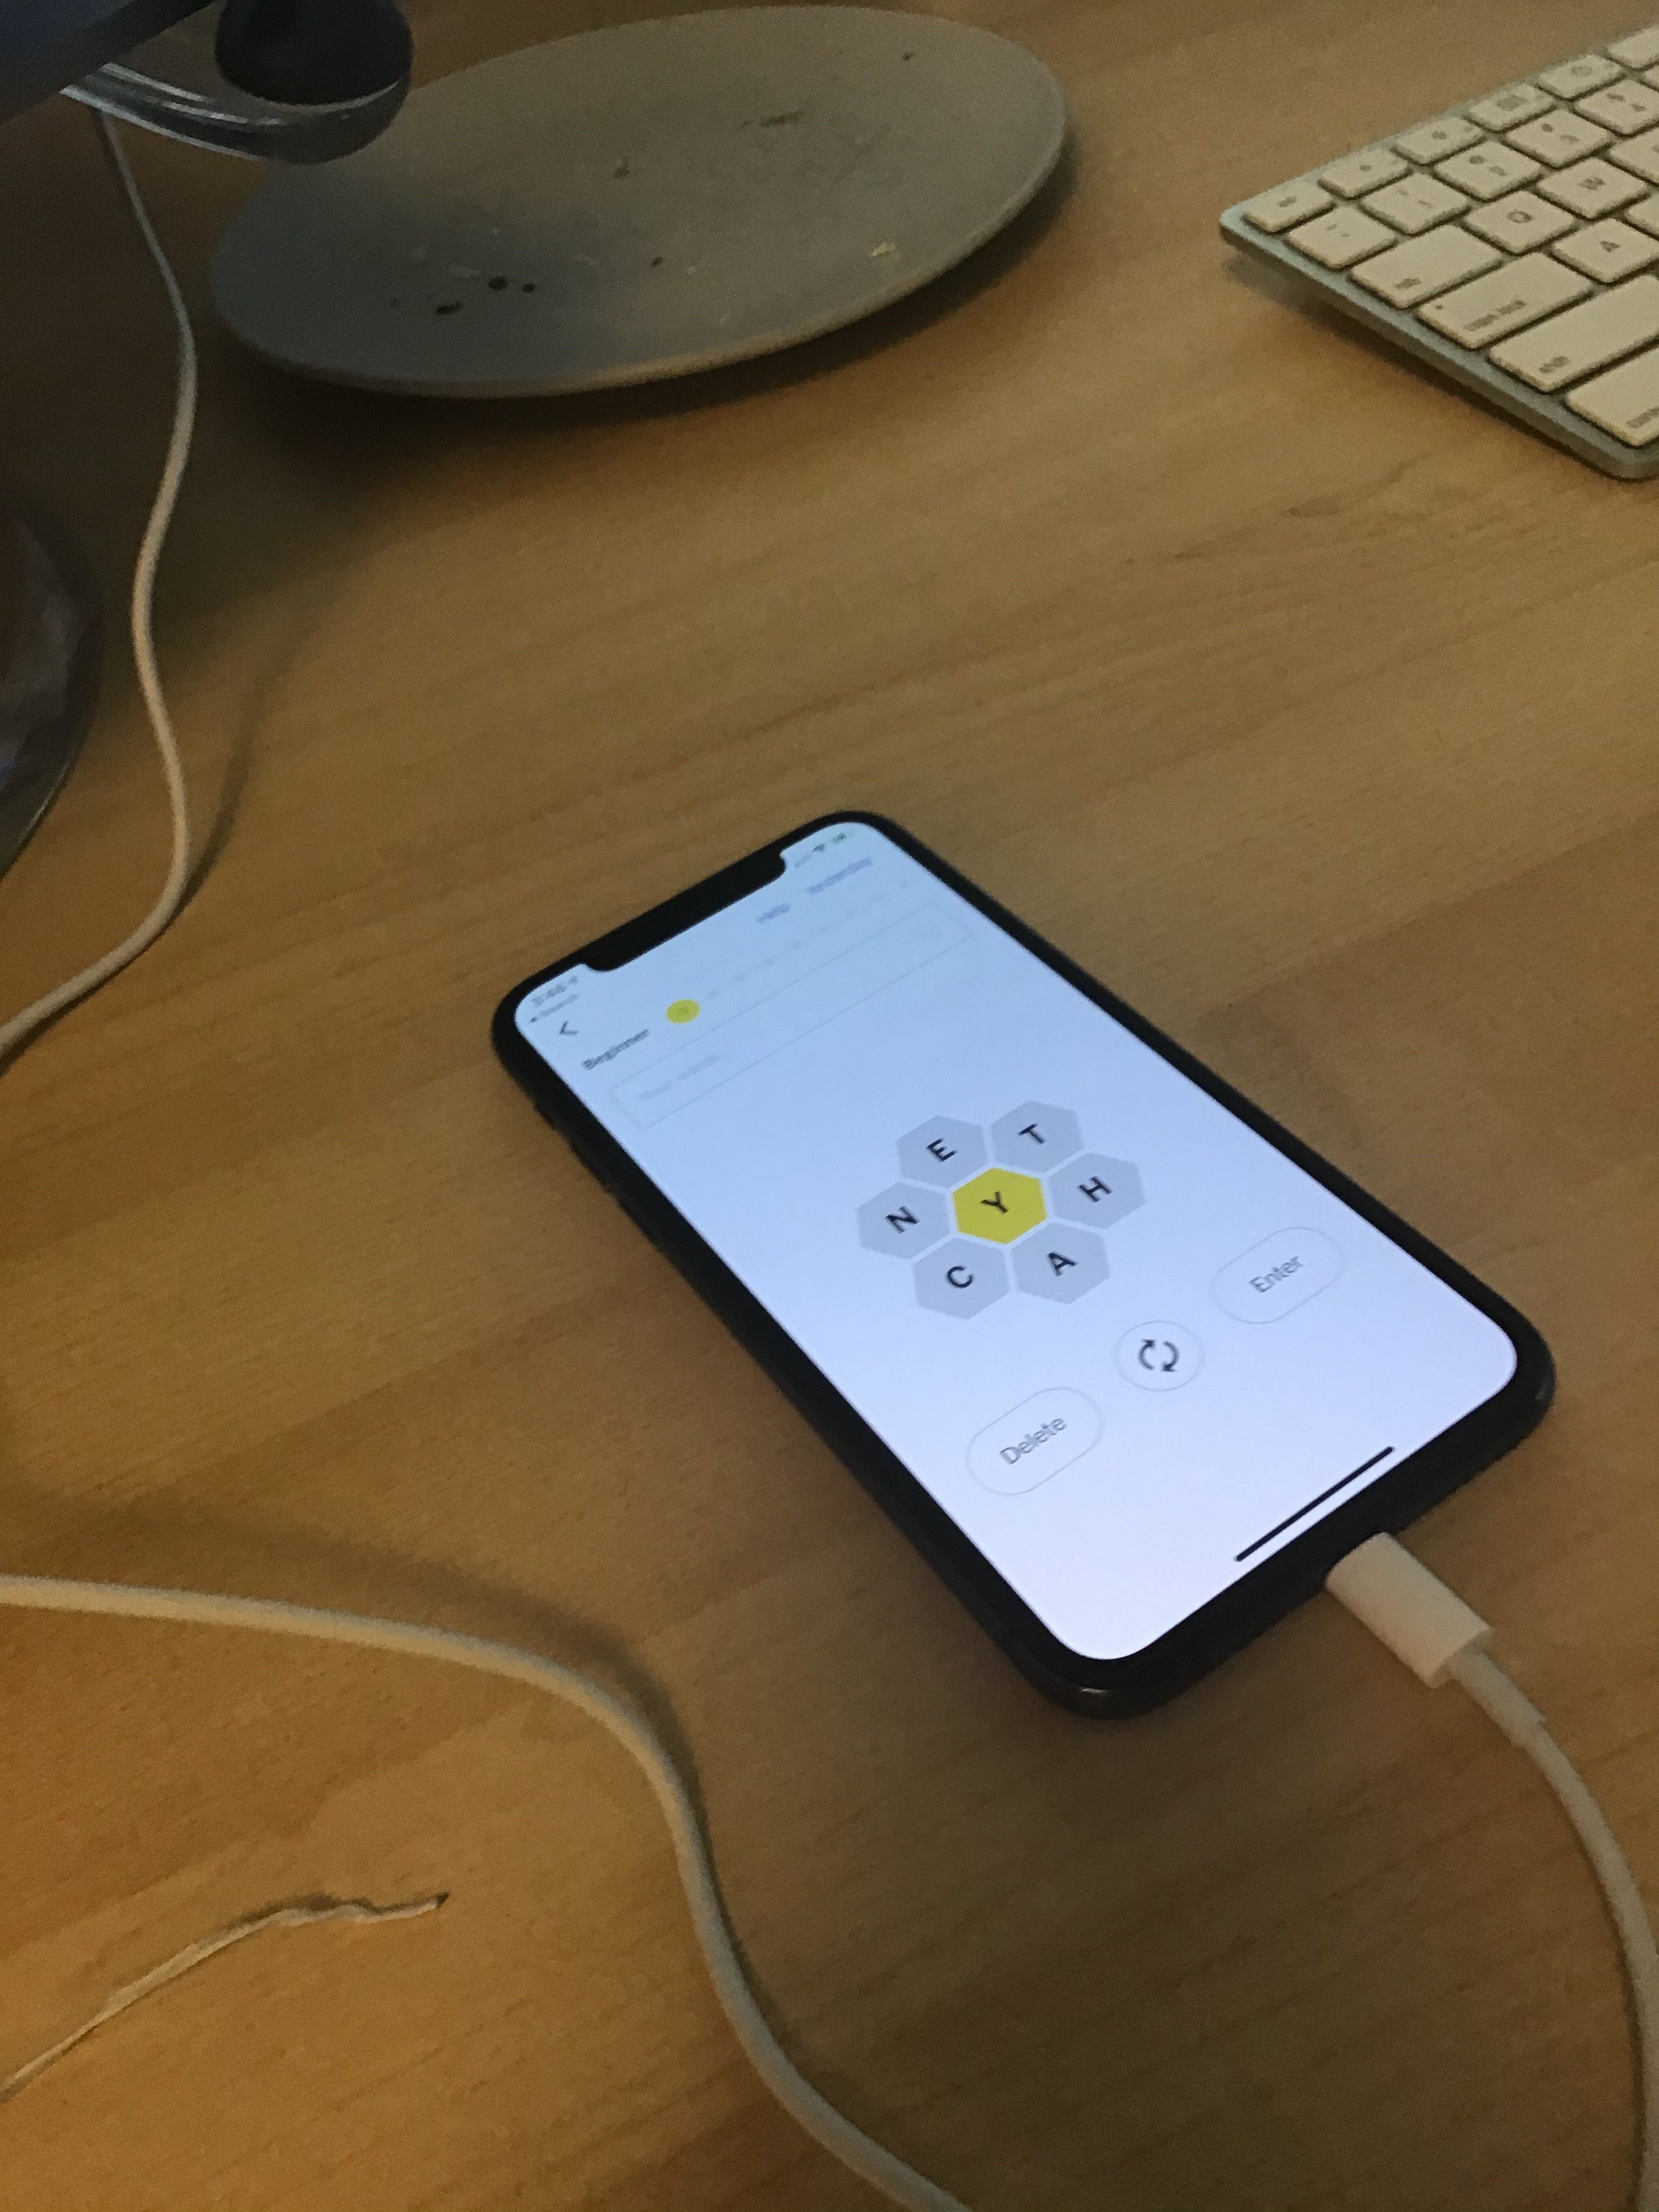Board: (793, 1014, 1213, 1406)
